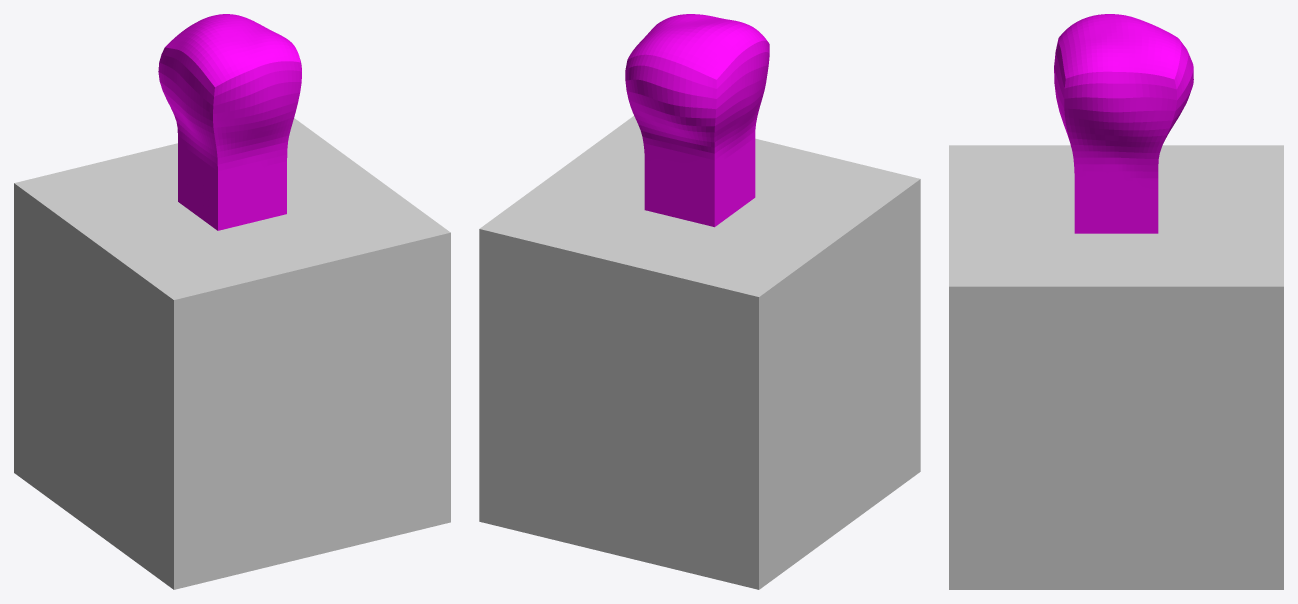
File: figure.fbx
3 renders of one model, left to right at view 1: azimuth 30°, elevation 25°; view 2: azimuth 150°, elevation 25°; view 3: azimuth 270°, elevation 25°, orthographic. The views are drawn at different scales.
Visible parts, largest first — view 1: Figure; view 2: Figure; view 3: Figure.
Boxes of the visible parts, x1,y1,x2,y2 form: Figure: (14,14,450,589); Figure: (479,14,920,589); Figure: (949,14,1283,589).
Size of the model in its own units: 2 by 3.25 by 2.
